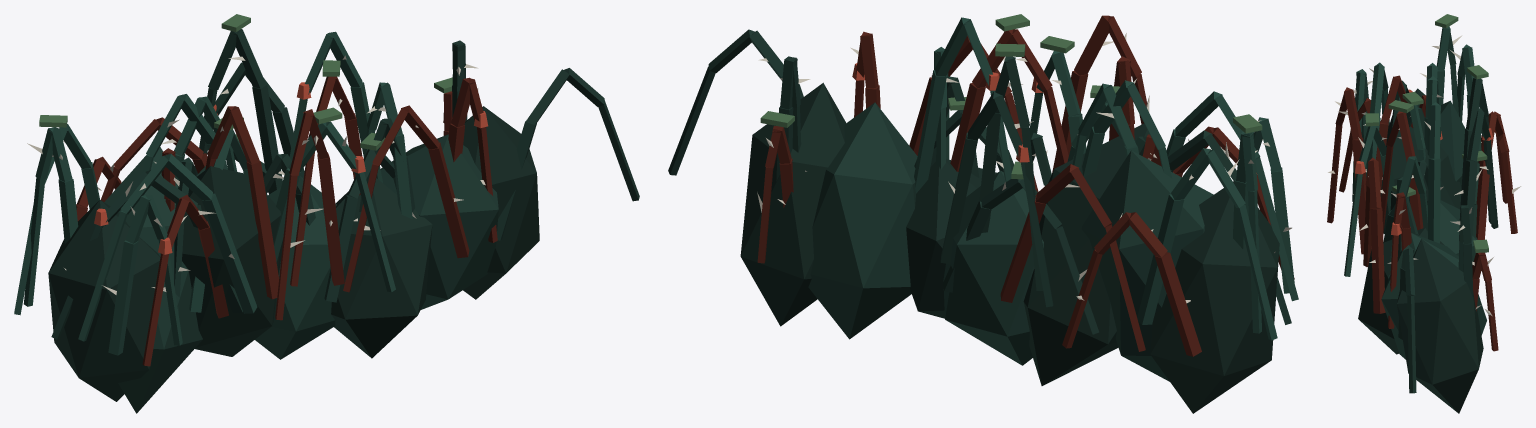
Rendered from bramble.glb.
The picture shows the model from 3 angles, left to right: view 1: azimuth 30°, elevation 25°; view 2: azimuth 150°, elevation 25°; view 3: azimuth 270°, elevation 25°; orthographic projection. The views are drawn at different scales.
Visible parts, largest first — view 1: pine_d55, pine_d25, coal_d55, pine_d40, pine_d45, moss_d20, bone_d15, coal_l5; view 2: pine_d55, pine_d40, pine_d25, coal_d55, pine_d45, moss_d20, bone_d15, coal_l5; view 3: pine_d55, coal_d55, pine_d25, pine_d45, pine_d40, moss_d20, bone_d15, coal_l5.
Boxes of the visible parts, <box> form: pine_d55: <box>48,106,539,401</box>; pine_d25: <box>14,31,412,355</box>; coal_d55: <box>76,76,497,366</box>; pine_d40: <box>104,134,498,413</box>; pine_d45: <box>51,29,639,339</box>; moss_d20: <box>39,14,452,150</box>; bone_d15: <box>27,55,485,294</box>; coal_l5: <box>94,82,488,254</box>; pine_d55: <box>740,82,1279,413</box>; pine_d40: <box>808,102,1213,381</box>; pine_d25: <box>914,17,1298,340</box>; coal_d55: <box>757,15,1294,356</box>; pine_d45: <box>668,29,1291,334</box>; moss_d20: <box>760,14,1262,179</box>; bone_d15: <box>757,33,1291,303</box>; coal_l5: <box>852,63,1257,174</box>; pine_d55: <box>1358,88,1483,413</box>; coal_d55: <box>1327,75,1517,351</box>; pine_d25: <box>1344,26,1481,276</box>; pine_d45: <box>1383,78,1498,393</box>; pine_d40: <box>1381,100,1486,359</box>; moss_d20: <box>1365,14,1488,252</box>; bone_d15: <box>1328,35,1521,316</box>; coal_l5: <box>1355,89,1493,235</box>.
Size of the model in its own units: 4.04 by 2.11 by 1.45.
